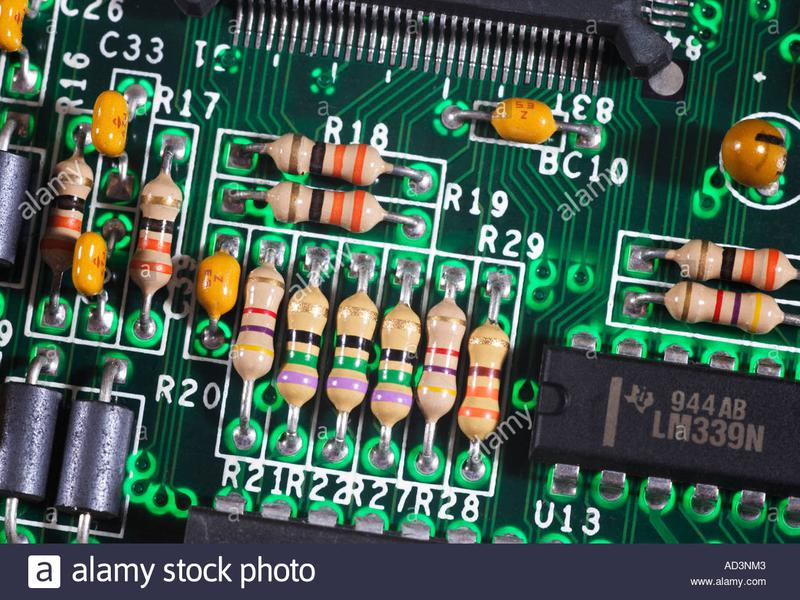resistor: (227, 244, 291, 405), (252, 124, 402, 191), (411, 286, 474, 438), (656, 229, 800, 294), (324, 270, 381, 431), (252, 178, 399, 240), (125, 159, 186, 308), (274, 267, 332, 423), (34, 141, 94, 289), (367, 289, 424, 439), (657, 280, 800, 339), (455, 316, 509, 453)
